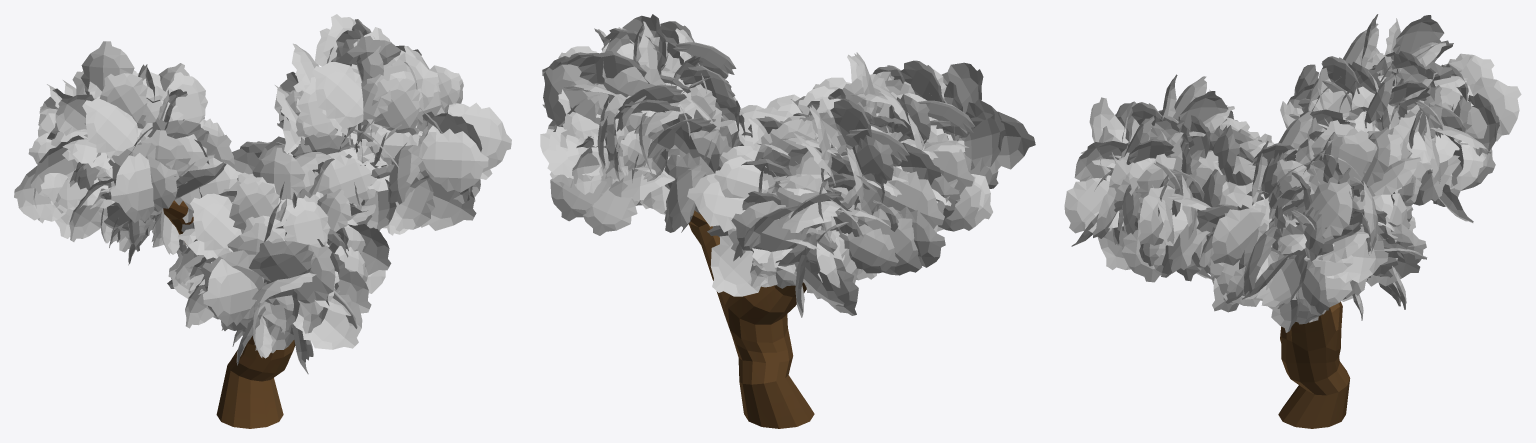
Rendered from tree.fbx.
3 renders of one model, left to right at view 1: azimuth 30°, elevation 25°; view 2: azimuth 150°, elevation 25°; view 3: azimuth 270°, elevation 25°, orthographic. The views are drawn at different scales.
Visible parts, largest first — view 1: Cylinder; view 2: Cylinder; view 3: Cylinder.
Part boxes in pixels (bbox=[...]): Cylinder: bbox=[14, 14, 511, 428]; Cylinder: bbox=[540, 14, 1035, 428]; Cylinder: bbox=[1064, 14, 1521, 428].
Size of the model in its own units: 885 by 693 by 803.
